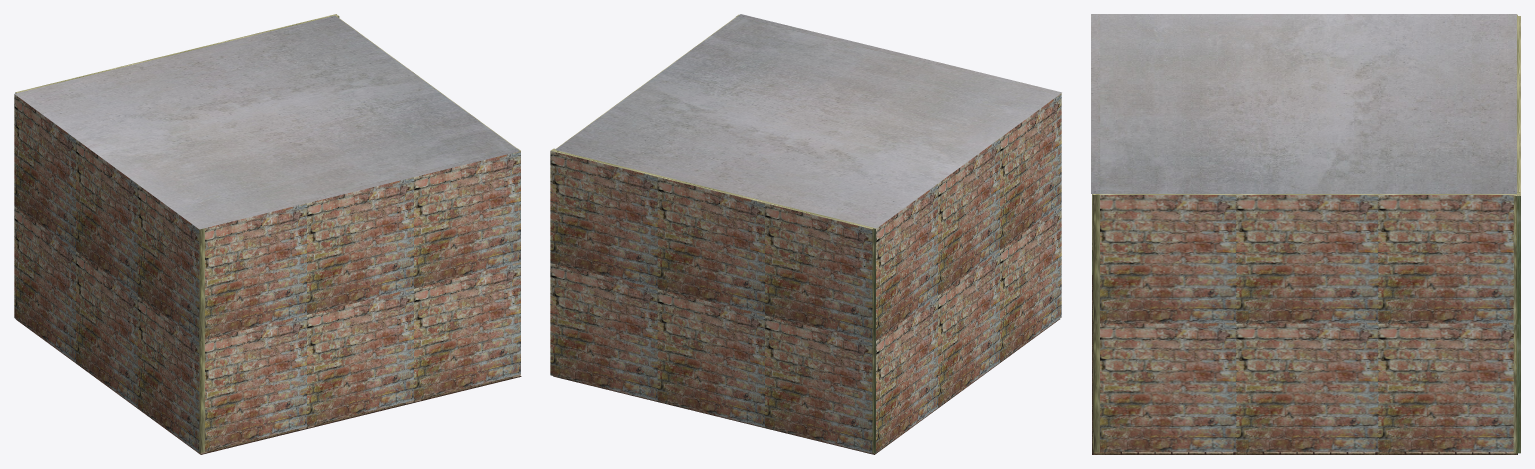
The model's file is TurorialMap.fbx.
The picture shows the model from 3 angles, left to right: view 1: azimuth 30°, elevation 25°; view 2: azimuth 150°, elevation 25°; view 3: azimuth 270°, elevation 25°; orthographic projection. The views are drawn at different scales.
Visible parts, largest first — view 1: Cube.001, Plane, Cube, Floor, Cube.002; view 2: Cube.002, Plane, Cube, Floor; view 3: Cube.003, Plane, Cube.002, Cube.001, Floor.
Boxes of the visible parts, x1,y1,x2,y2 form: Cube.001: (205,148,520,451); Plane: (14,15,519,229); Cube: (14,94,204,453); Floor: (16,319,521,454); Cube.002: (15,14,339,93); Cube.002: (550,148,873,453); Plane: (555,14,1061,228); Cube: (873,93,1061,453); Floor: (553,319,1059,454); Cube.003: (1100,192,1520,452); Plane: (1091,14,1516,193); Cube.002: (1513,16,1520,453); Cube.001: (1092,194,1099,452); Floor: (1092,275,1517,454).
Bounding box in the file's own units: 3027 × 2020 × 3027.
11 materials, 11 textured.
